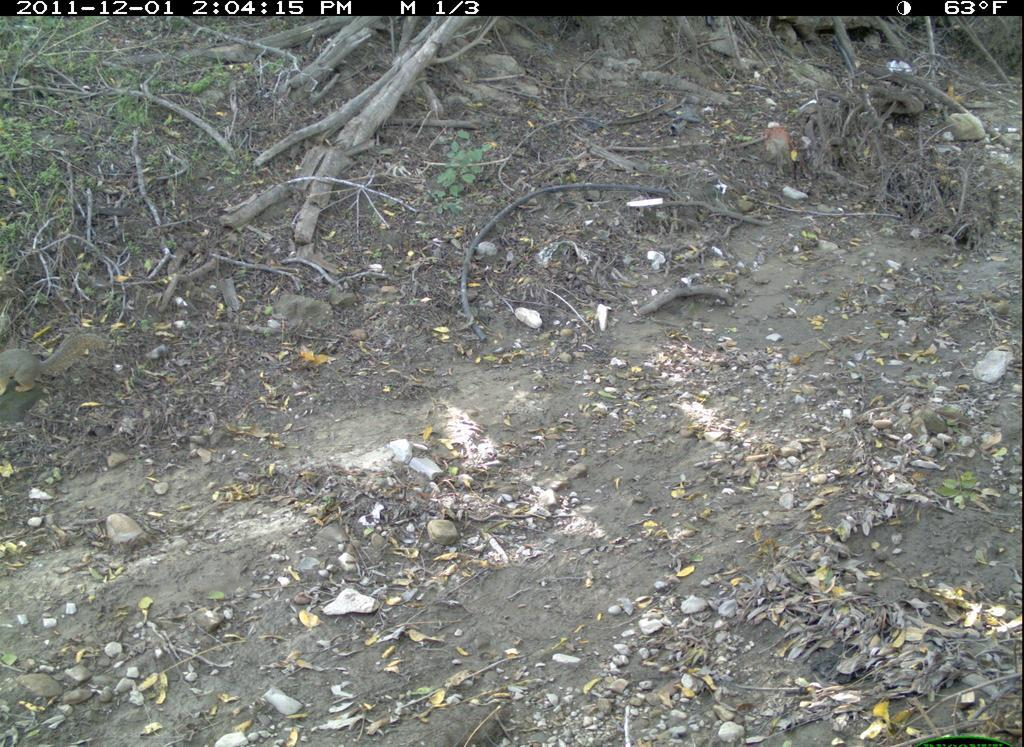squirrel: (1, 312, 113, 402)
